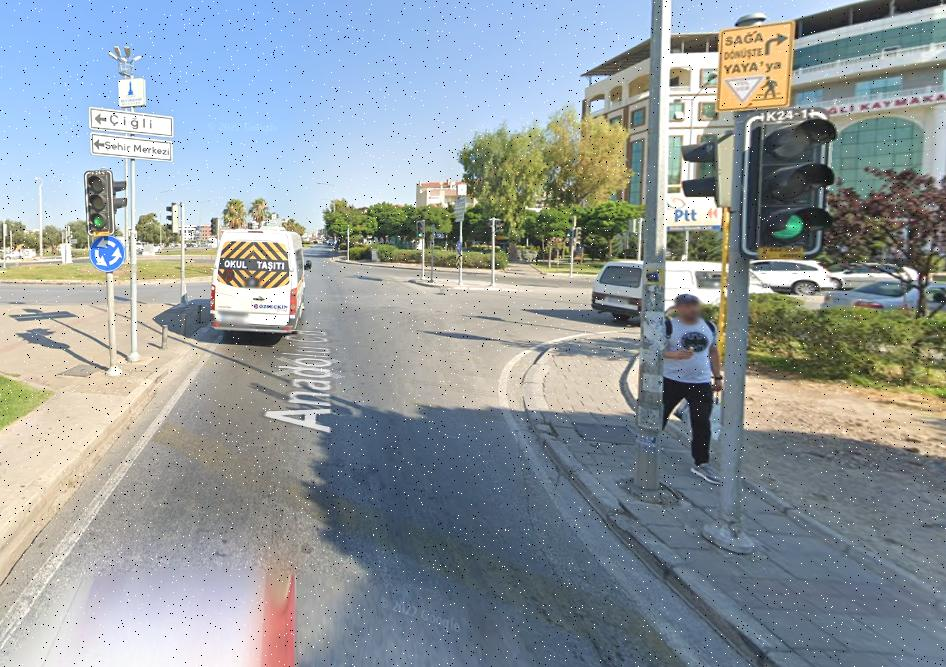crossroads: (89, 236, 125, 270)
greenlight: (750, 115, 827, 249), (83, 170, 116, 228)
